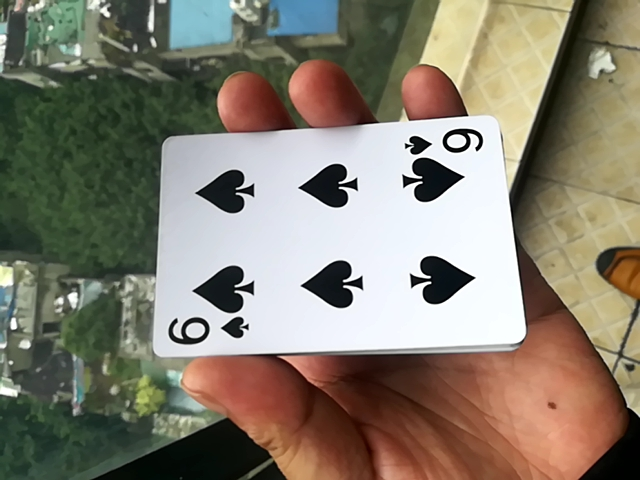ht 6: (128, 122, 525, 356)
